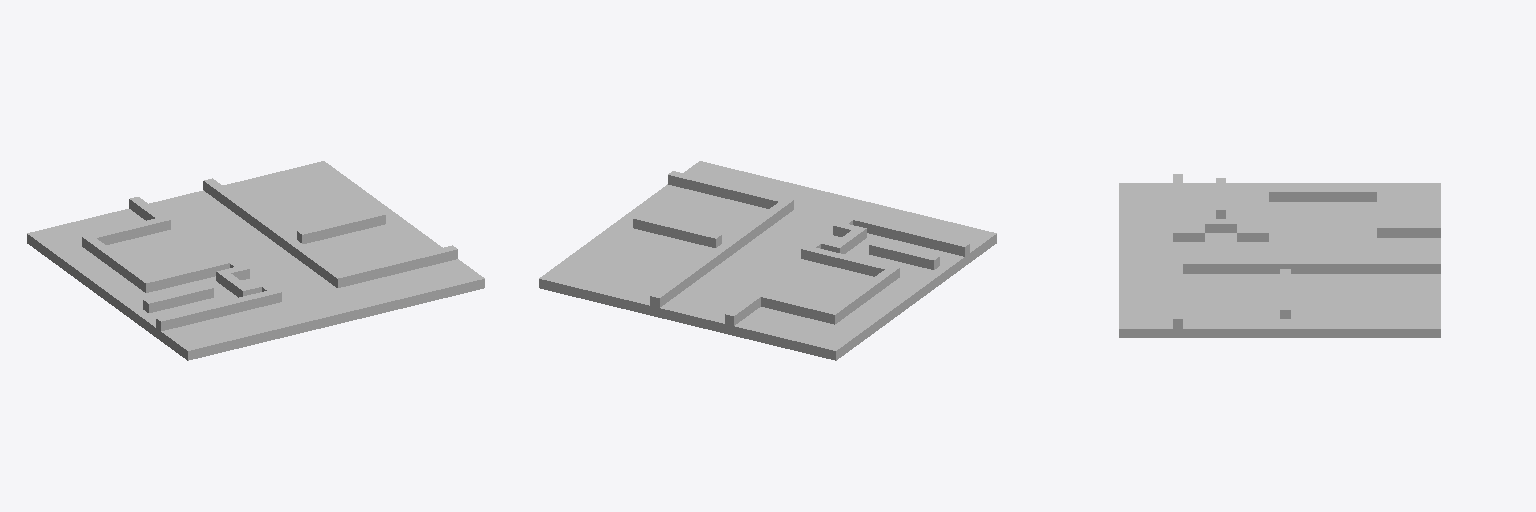
The model's file is niveau0-1-Niveau IA.obj.
3 renders of one model, left to right at view 1: azimuth 30°, elevation 25°; view 2: azimuth 150°, elevation 25°; view 3: azimuth 270°, elevation 25°, orthographic.
Visible parts, largest first — view 1: Niveau IA; view 2: Niveau IA; view 3: Niveau IA.
Boxes of the visible parts, x1,y1,x2,y2 form: Niveau IA: [27, 161, 484, 360]; Niveau IA: [539, 161, 996, 360]; Niveau IA: [1119, 174, 1440, 337].
Size of the model in its own units: 3.2 by 0.2 by 3.